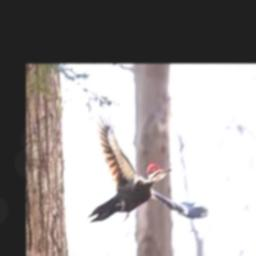Woodpecker: (88, 107, 209, 222)
